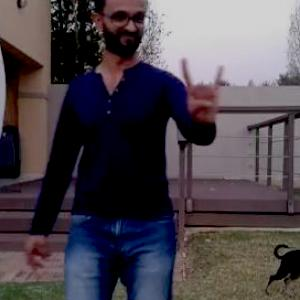takeoff-hand: (178, 50, 231, 128)
